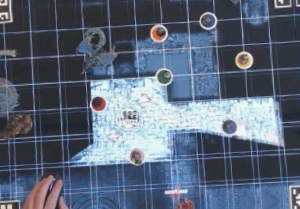blue: (199, 10, 220, 31)
green: (153, 64, 173, 86)
orange: (147, 23, 170, 41)
pink: (125, 144, 148, 167)
red: (88, 92, 107, 112)
violet: (219, 117, 240, 136)
yellow: (230, 48, 256, 70)
